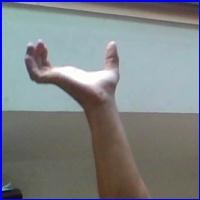space: (21, 36, 130, 106)
